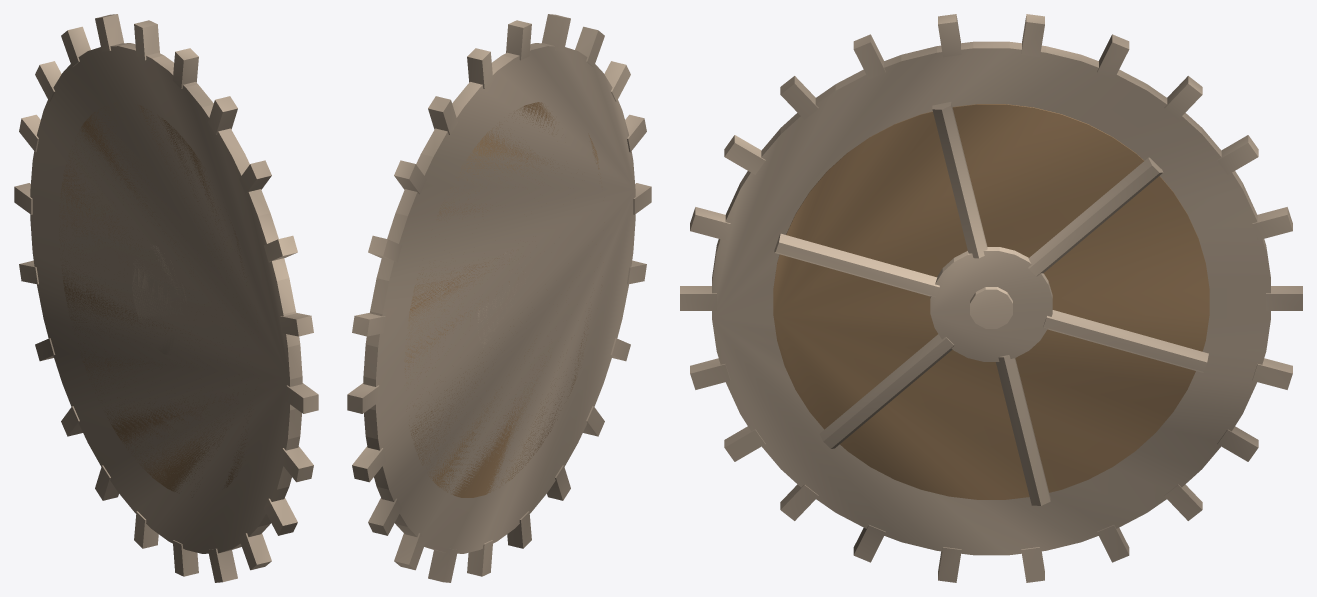
The model's file is SM_TowerGear_A3.fbx.
3 views of the same model, side by side, from view 1: azimuth 30°, elevation 25°; view 2: azimuth 150°, elevation 25°; view 3: azimuth 270°, elevation 25° (orthographic). The views are drawn at different scales.
Parts seen in each view (by area): view 1: SM_TowerGear_A3; view 2: SM_TowerGear_A3; view 3: SM_TowerGear_A3.
Boxes of the visible parts, bbox=[...] form: SM_TowerGear_A3: bbox=[14, 14, 318, 582]; SM_TowerGear_A3: bbox=[347, 14, 651, 582]; SM_TowerGear_A3: bbox=[680, 14, 1302, 582].
Size of the model in its own units: 31.49 by 557 by 560.
